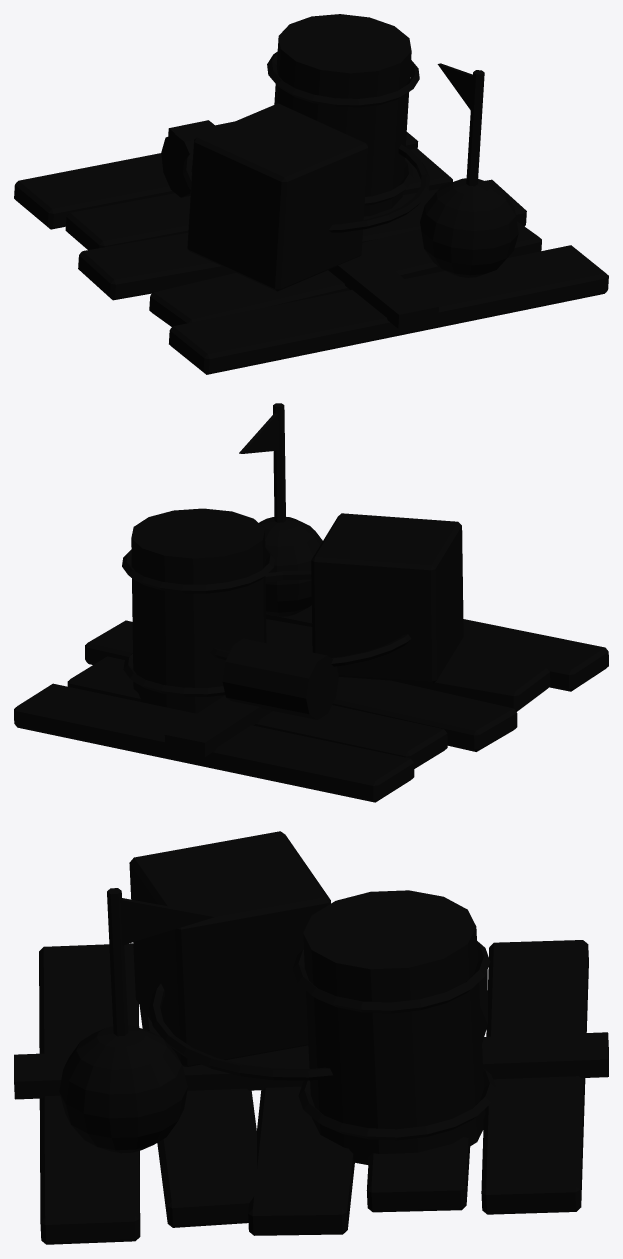
File: floating_salvage.unity-fbx.fbx
3 views of the same model, one above another, from view 1: azimuth 30°, elevation 25°; view 2: azimuth 150°, elevation 25°; view 3: azimuth 270°, elevation 25° (orthographic). The views are drawn at different scales.
Parts seen in each view (by area): view 1: floating_salvage_mesh; view 2: floating_salvage_mesh; view 3: floating_salvage_mesh.
Boxes of the visible parts, <box> form: floating_salvage_mesh: <box>14,14,608,374</box>; floating_salvage_mesh: <box>14,403,608,802</box>; floating_salvage_mesh: <box>14,831,608,1244</box>.
Size of the model in its own units: 2.45 by 1.3 by 2.4.
Materials: 1 (1 with a texture image).
